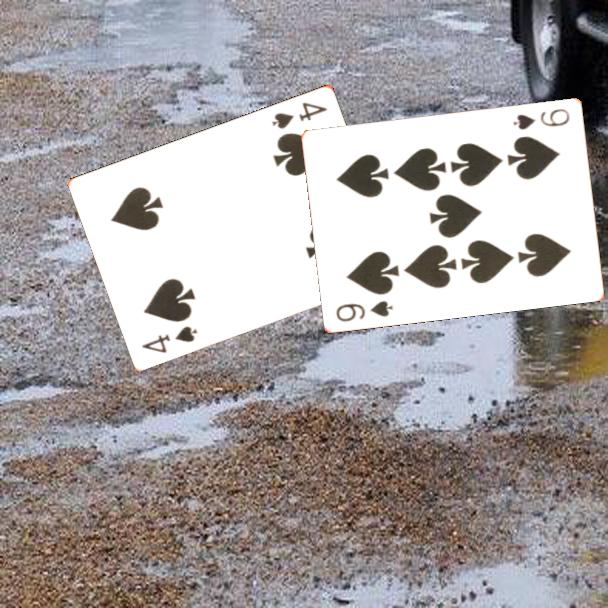s04: (138, 322, 200, 356), (268, 98, 330, 131)
s09: (510, 105, 573, 132), (333, 297, 396, 324)
